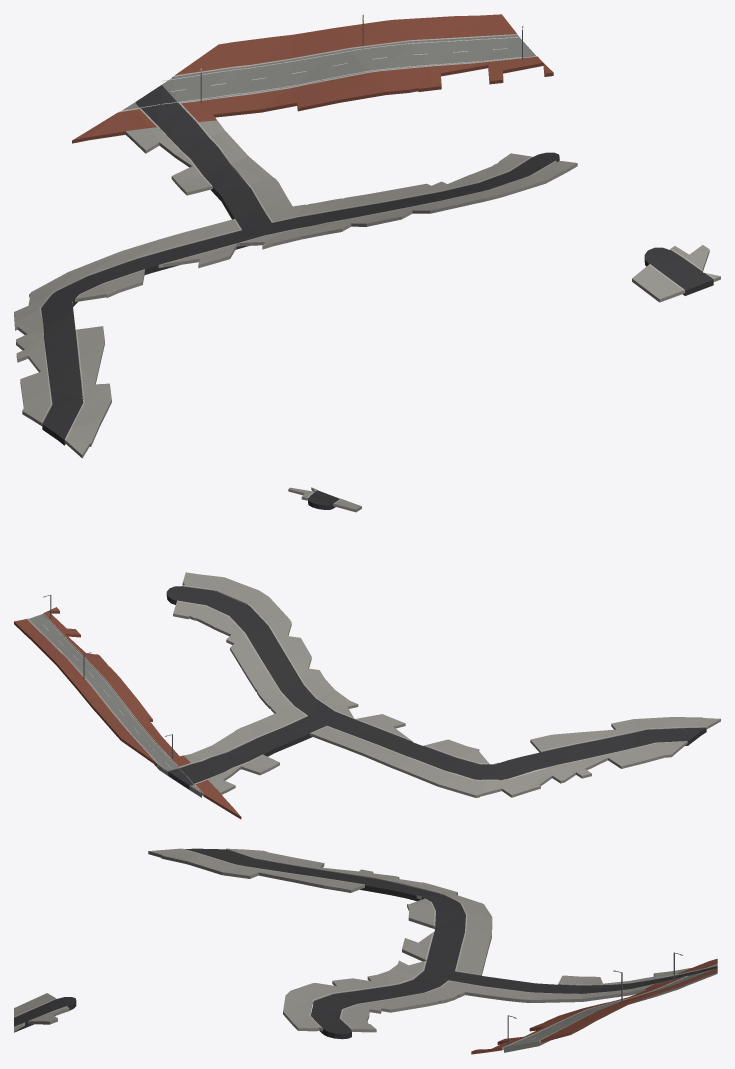
The picture shows the model from 3 angles, top to bottom: view 1: azimuth 30°, elevation 25°; view 2: azimuth 150°, elevation 25°; view 3: azimuth 270°, elevation 25°; orthographic projection. The views are drawn at different scales.
Size of the model in its own units: 147 by 30.34 by 146.
